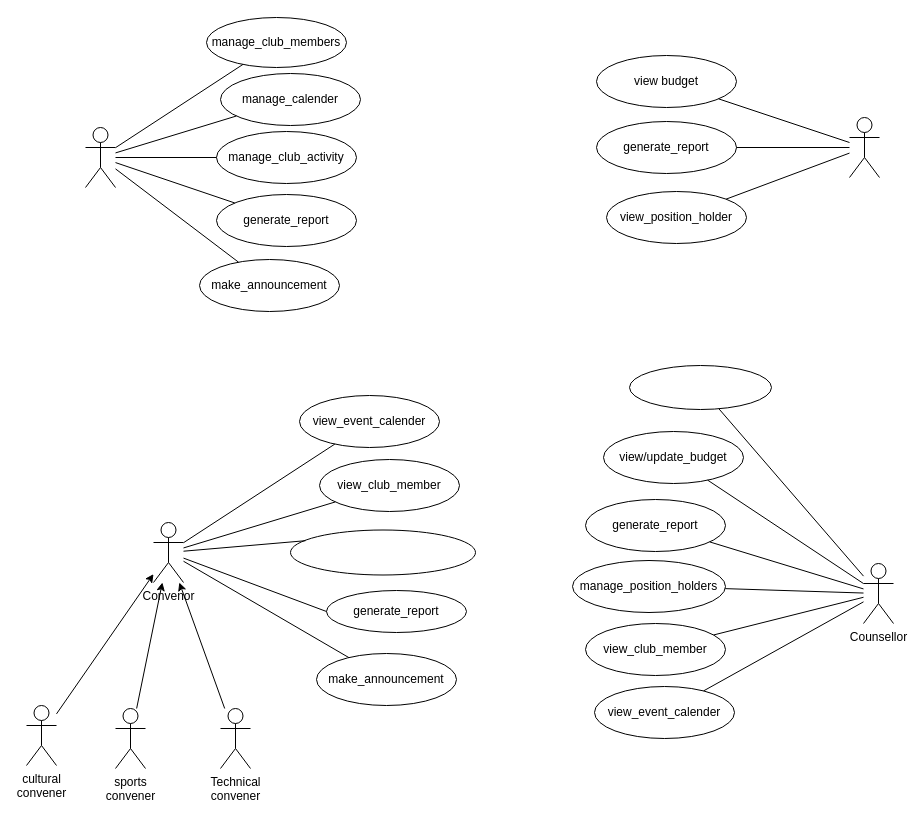
This 924x822 diagram has some shape labels left out. The centre of each missing label's shape, as x and y in pixels:
"budget_allocation/utilization" belongs at point 383,552.
"Club Coordinator" belongs at point 100,157.
"Dean" belongs at point 864,147.
"manage_clubs" belongs at point 700,387.
